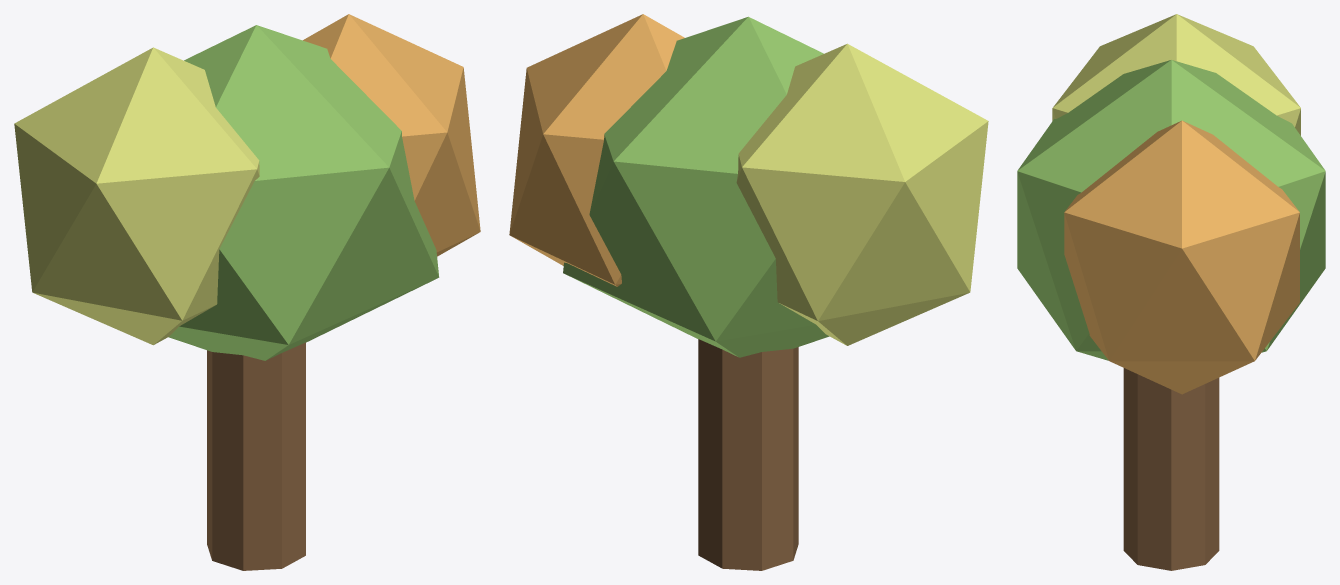
Rendered from tree_broad_05.glb.
3 views of the same model, side by side, from view 1: azimuth 30°, elevation 25°; view 2: azimuth 150°, elevation 25°; view 3: azimuth 270°, elevation 25° (orthographic). The views are drawn at different scales.
Parts seen in each view (by area): view 1: BroadTree_05_CrownA.001, BroadTree_05_CrownB.001, BroadTree_05_Trunk.001, BroadTree_05_CrownC.001; view 2: BroadTree_05_CrownB.001, BroadTree_05_CrownA.001, BroadTree_05_CrownC.001, BroadTree_05_Trunk.001; view 3: BroadTree_05_CrownC.001, BroadTree_05_CrownA.001, BroadTree_05_Trunk.001, BroadTree_05_CrownB.001.
Part boxes in pixels (box(x1,y1,x2,y2)): BroadTree_05_CrownA.001: box(168, 25, 439, 360); BroadTree_05_CrownB.001: box(14, 47, 259, 345); BroadTree_05_Trunk.001: box(207, 342, 305, 570); BroadTree_05_CrownC.001: box(303, 14, 480, 256); BroadTree_05_CrownB.001: box(736, 43, 988, 345); BroadTree_05_CrownA.001: box(563, 16, 829, 357); BroadTree_05_CrownC.001: box(509, 14, 684, 286); BroadTree_05_Trunk.001: box(698, 339, 798, 570); BroadTree_05_CrownC.001: box(1064, 120, 1299, 394); BroadTree_05_CrownA.001: box(1017, 60, 1325, 360); BroadTree_05_Trunk.001: box(1123, 368, 1219, 570); BroadTree_05_CrownB.001: box(1052, 14, 1300, 135).
Size of the model in its own units: 1.77 by 2.04 by 1.16.
